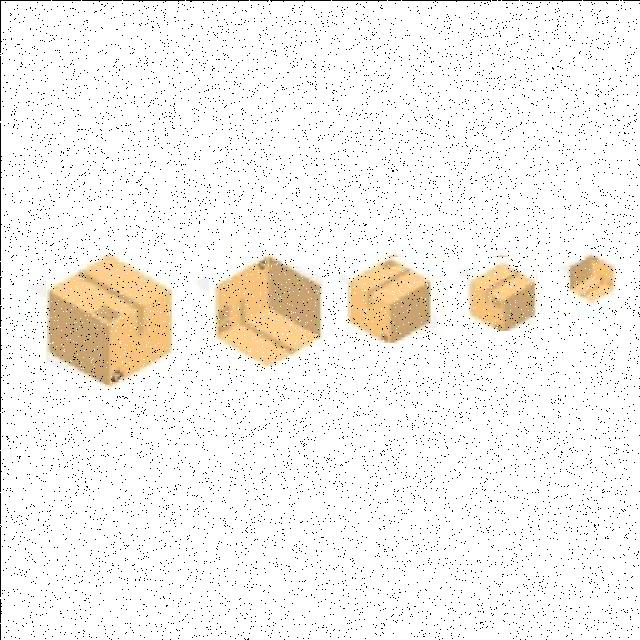normal: (45, 256, 169, 384), (208, 250, 322, 364), (346, 256, 436, 342), (468, 256, 535, 330), (562, 255, 618, 308)
